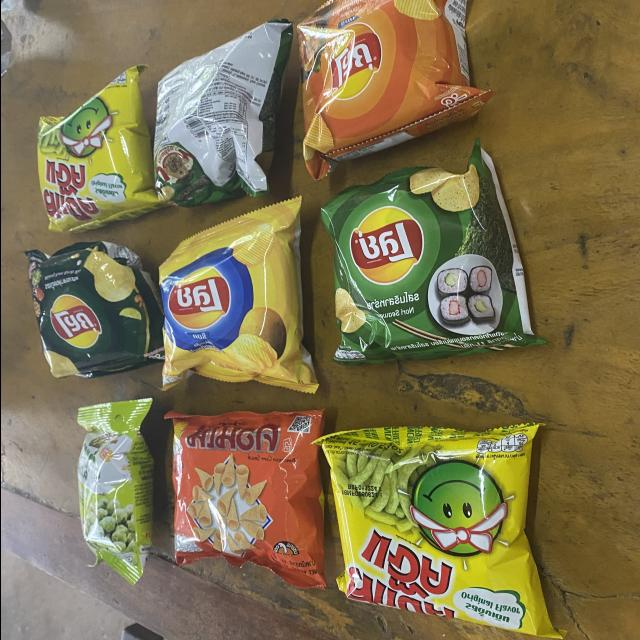plastik: (313, 424, 564, 638), (321, 141, 545, 366), (298, 0, 492, 180), (158, 197, 317, 393), (166, 410, 325, 588), (153, 19, 291, 207), (37, 65, 162, 232), (24, 242, 163, 378), (76, 398, 153, 584)
